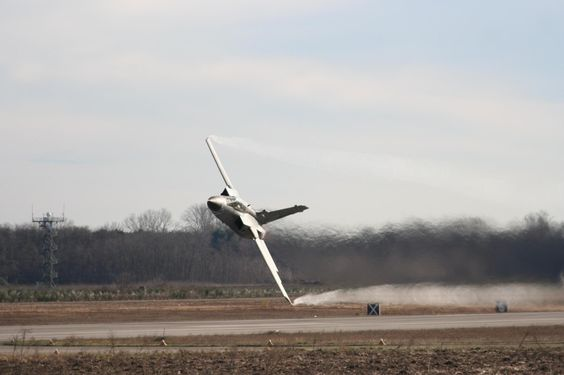Tornado: (205, 136, 310, 307)
